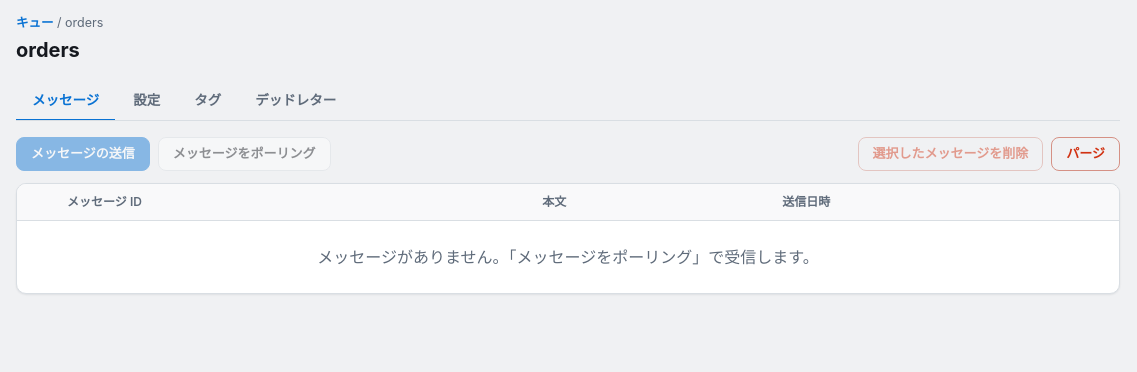
QueueDetailPage › shows an unsupported notice when ListDeadLetterSourceQueues is not implemented
Click the button with test id "tab-dlq" at [296, 101], box [239, 81, 352, 121]
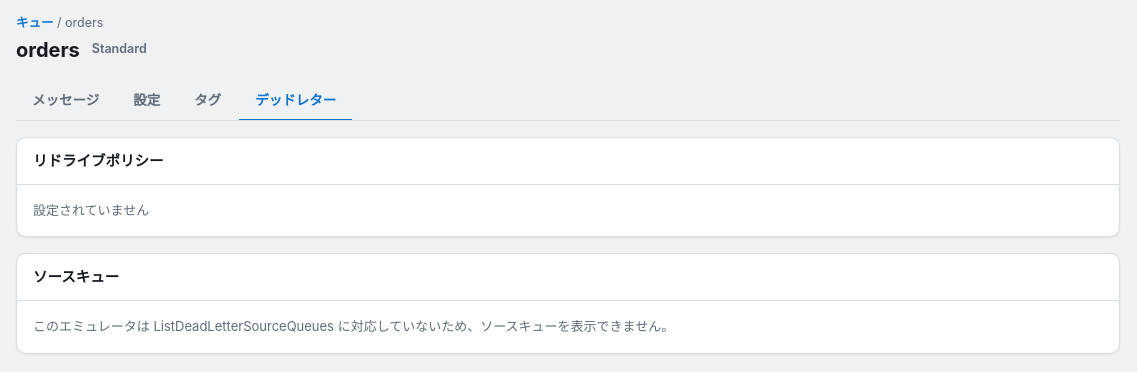
Check: the text with test id "dlq-sources-unsupported" is shown, box [33, 318, 674, 334]
